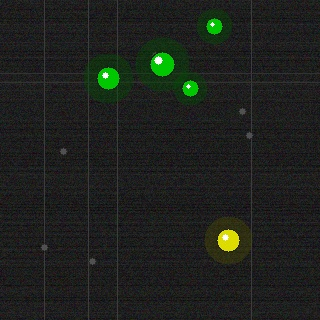green_normal: (148, 50, 176, 78), (95, 65, 121, 91), (204, 16, 224, 36), (180, 78, 200, 98)
yellow_warning: (215, 227, 241, 253)
